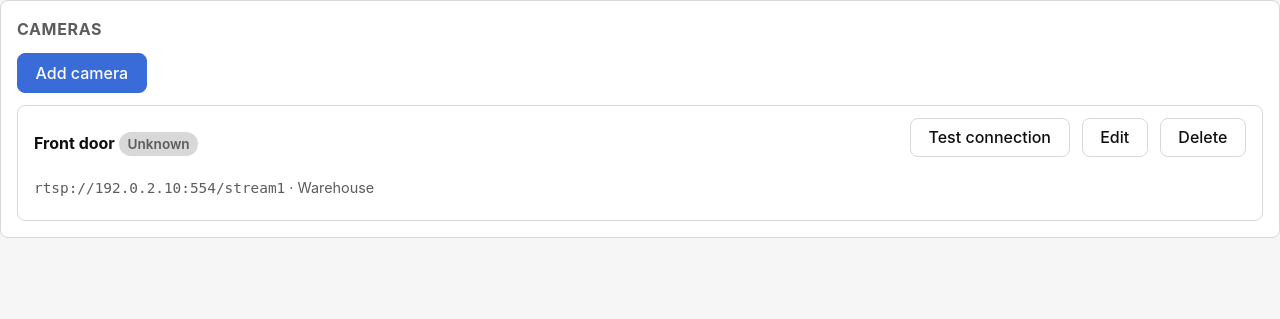
Test: CamerasPage › test connection failure shows the persisted error
Step 1. Click the button "Test connection" → [990, 137], box [910,118,1070,157]
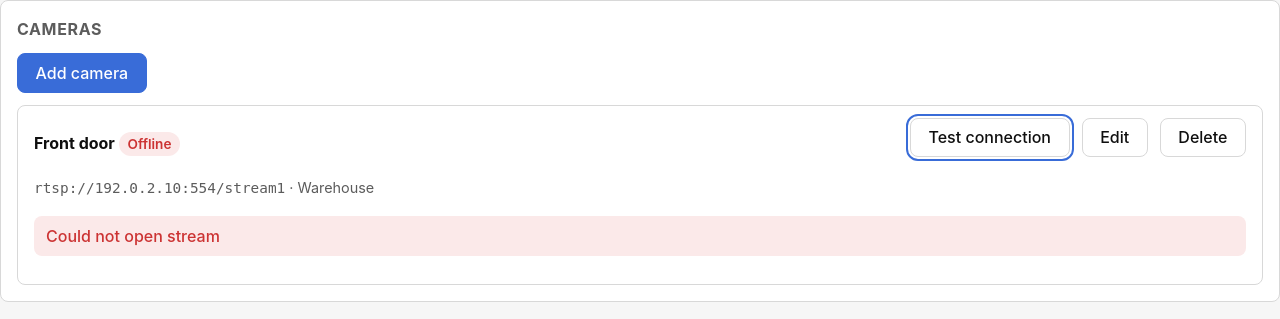
Result: the text "Could not open stream" is shown at [34,216,1246,256]
